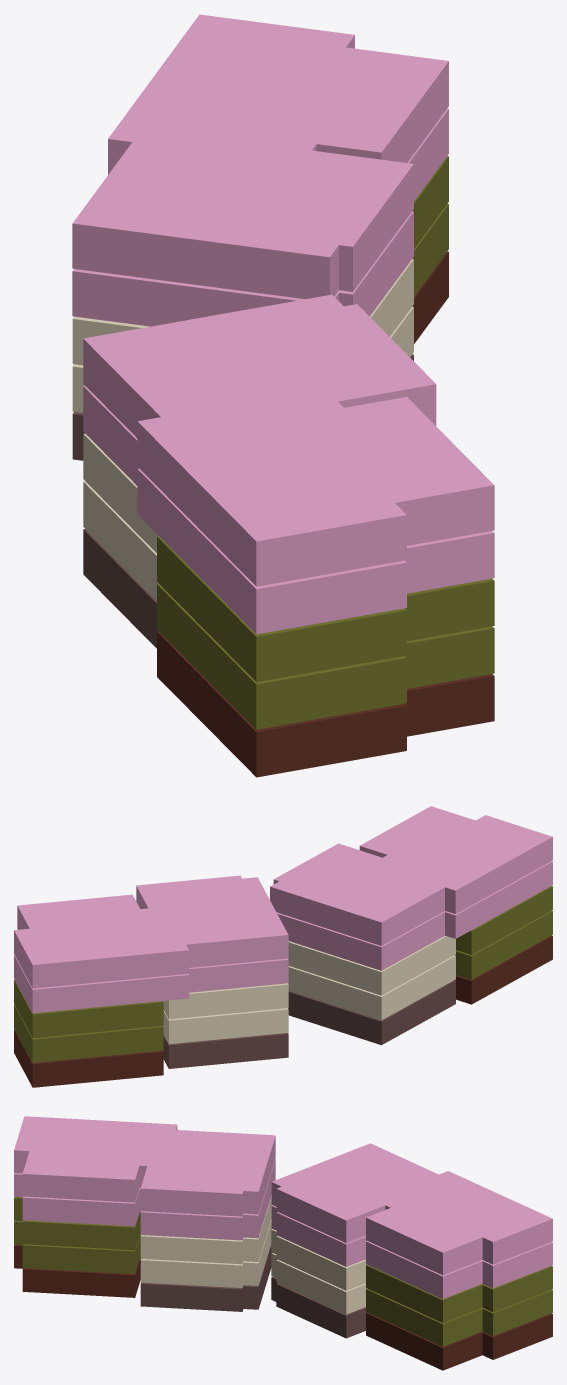
File: Residencial_Areas.glb
The picture shows the model from 3 angles, top to bottom: view 1: azimuth 30°, elevation 25°; view 2: azimuth 150°, elevation 25°; view 3: azimuth 270°, elevation 25°; orthographic projection. The views are drawn at different scales.
Parts seen in each view (by area): view 1: R_4BR_T, R_3BR, R_4BR, R_3BR_G, R_2BR, R_2BR_G; view 2: R_4BR_T, R_2BR, R_4BR, R_3BR, R_2BR_G, R_3BR_G; view 3: R_4BR_T, R_3BR, R_4BR, R_2BR, R_3BR_G, R_2BR_G.
Boxes of the visible parts, x1,y1,x2,y2 form: R_4BR_T: (72,14,494,586); R_3BR: (157,156,494,729); R_4BR: (72,108,494,634); R_3BR_G: (157,251,494,777); R_2BR: (72,259,413,600); R_2BR_G: (72,354,413,648); R_4BR_T: (14,806,552,988); R_2BR: (163,935,455,1044); R_4BR: (14,861,552,1013); R_3BR: (14,886,552,1062); R_2BR_G: (163,980,455,1068); R_3BR_G: (14,935,552,1087); R_4BR_T: (14,1116,552,1275); R_3BR: (14,1197,552,1346); R_4BR: (14,1159,552,1298); R_2BR: (140,1196,366,1314); R_3BR_G: (14,1244,552,1370); R_2BR_G: (140,1245,366,1338).
Bounding box in the file's own units: 50.97 × 20.8 × 77.86.
